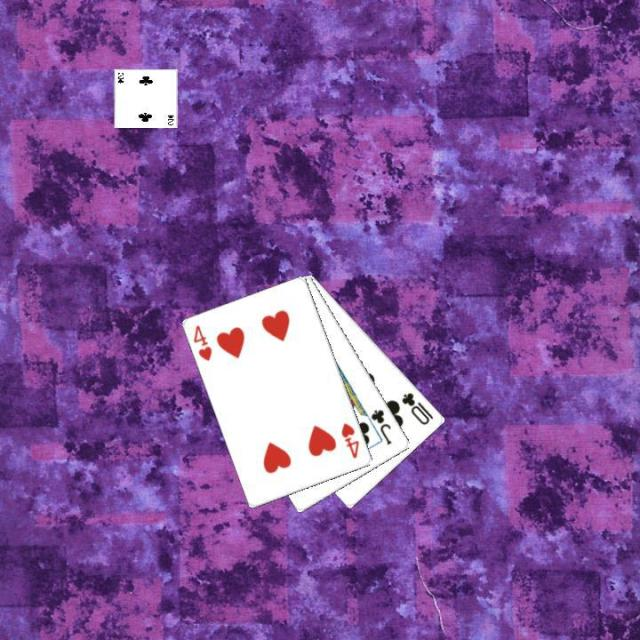10C: (398, 388, 436, 426)
4H: (338, 420, 362, 460), (190, 322, 214, 362)
JC: (367, 405, 394, 447)
